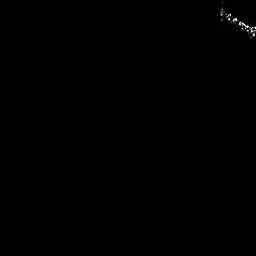ship: (217, 5, 256, 39)
